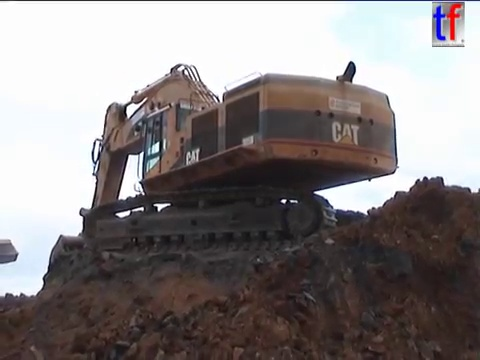excavator: (42, 58, 402, 282)
truck: (1, 237, 20, 267)
